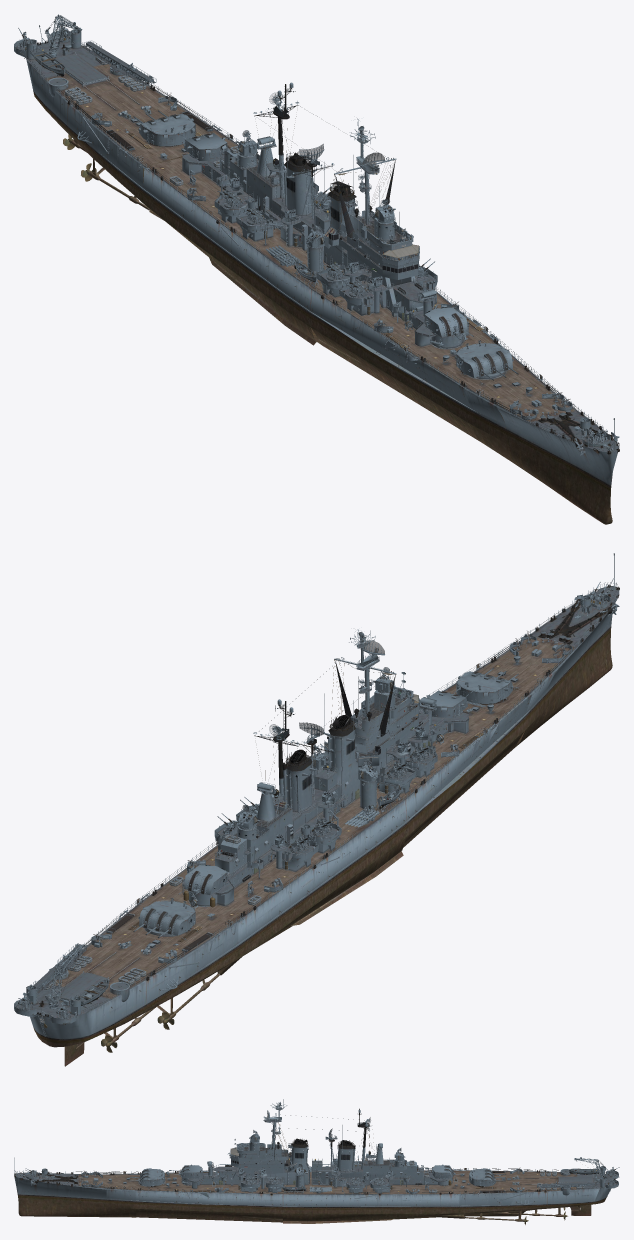
File: san_martin_world_of_warships-maximum-compressed.glb
3 renders of one model, top to bottom at view 1: azimuth 30°, elevation 25°; view 2: azimuth 150°, elevation 25°; view 3: azimuth 270°, elevation 25°, orthographic. The views are drawn at different scales.
Visible parts, largest first — view 1: Object_77, Object_75, Object_79, Object_50, Object_71, Object_51, Object_72, Object_69, Object_76, Object_95, Object_78, Object_73 (+4 smaller); view 2: Object_79, Object_75, Object_77, Object_50, Object_51, Object_71, Object_72, Object_69, Object_76, Object_78, Object_73, Object_95 (+5 smaller); view 3: Object_75, Object_77, Object_79, Object_71, Object_50, Object_51, Object_72, Object_78, Object_76, Object_69, Object_73, Object_95 (+5 smaller).
Part boxes in pixels (<box>): Object_77: <box>310,265,542,442</box>; Object_75: <box>136,134,328,325</box>; Object_79: <box>14,27,222,203</box>; Object_50: <box>294,126,468,348</box>; Object_71: <box>491,384,619,524</box>; Object_51: <box>182,84,332,258</box>; Object_72: <box>133,132,554,462</box>; Object_69: <box>292,131,542,396</box>; Object_76: <box>116,123,236,210</box>; Object_95: <box>178,130,473,339</box>; Object_78: <box>280,259,328,345</box>; Object_73: <box>136,86,331,252</box>; Object_79: <box>14,910,222,1066</box>; Object_75: <box>136,805,380,975</box>; Object_77: <box>321,663,542,847</box>; Object_50: <box>311,630,468,813</box>; Object_51: <box>182,701,344,906</box>; Object_71: <box>491,555,619,726</box>; Object_72: <box>132,656,555,928</box>; Object_69: <box>330,635,542,813</box>; Object_76: <box>118,899,238,983</box>; Object_78: <box>340,792,407,876</box>; Object_73: <box>136,703,356,928</box>; Object_95: <box>178,687,473,897</box>; Object_75: <box>312,1161,466,1223</box>; Object_77: <box>123,1170,284,1222</box>; Object_79: <box>474,1166,618,1221</box>; Object_71: <box>14,1159,114,1217</box>; Object_50: <box>181,1103,309,1193</box>; Object_51: <box>311,1108,452,1188</box>; Object_72: <box>106,1168,472,1217</box>; Object_78: <box>283,1170,312,1223</box>; Object_76: <box>459,1170,488,1218</box>; Object_69: <box>123,1105,307,1194</box>; Object_73: <box>312,1113,467,1197</box>; Object_95: <box>169,1164,465,1178</box>.
Bounding box in the file's own units: 1.48 × 3.2 × 14.56.
Materials: 87 (86 with a texture image).
